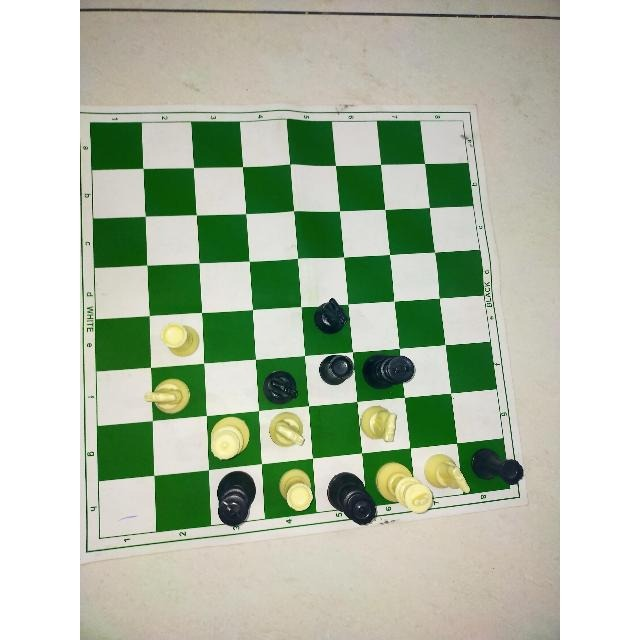black-king: (208, 465, 259, 531), (210, 463, 257, 530), (358, 350, 422, 394), (359, 352, 420, 393)
black-knight: (256, 362, 302, 408), (313, 289, 351, 342), (257, 364, 301, 408), (313, 292, 351, 342)
black-queen: (318, 469, 381, 530), (321, 470, 381, 528)
black-rook: (461, 442, 528, 494), (465, 443, 527, 493), (313, 349, 357, 395), (313, 349, 355, 393)
white-king: (375, 454, 435, 518), (376, 456, 436, 517)
white-knight: (137, 374, 198, 420), (138, 375, 198, 417), (424, 448, 475, 497), (357, 400, 404, 453), (424, 451, 473, 497), (358, 401, 402, 451), (264, 406, 312, 451), (265, 412, 309, 452)
white-queen: (204, 412, 256, 467), (204, 414, 253, 466)
white-rook: (274, 464, 318, 520), (156, 316, 206, 360), (274, 468, 316, 517), (157, 320, 205, 360)
